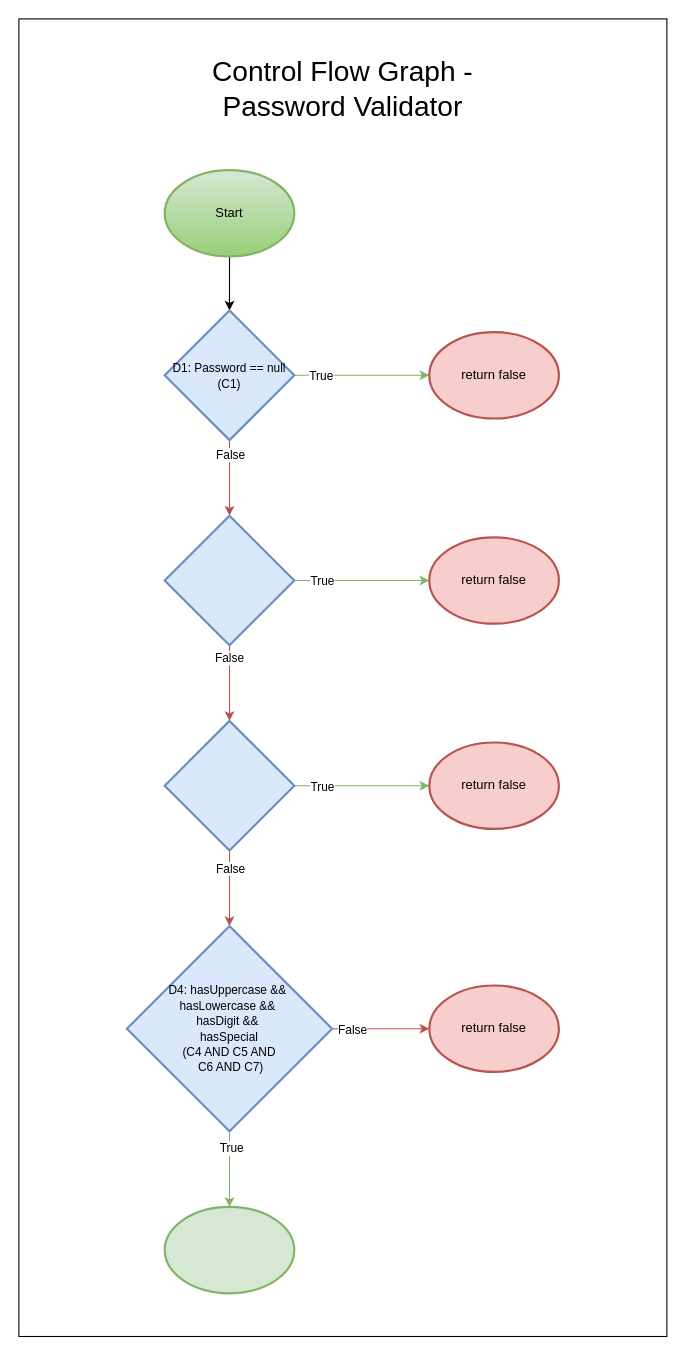
Image size: 686x1355. Some labels were removed from this diagram. The centre of each missing label's shape, as x and y in pixels:
"D2: length < 8 (C2)" goes at [229,580].
"D3: length > 20 (C3)" goes at [229,785].
"return true" goes at [229,1249].
